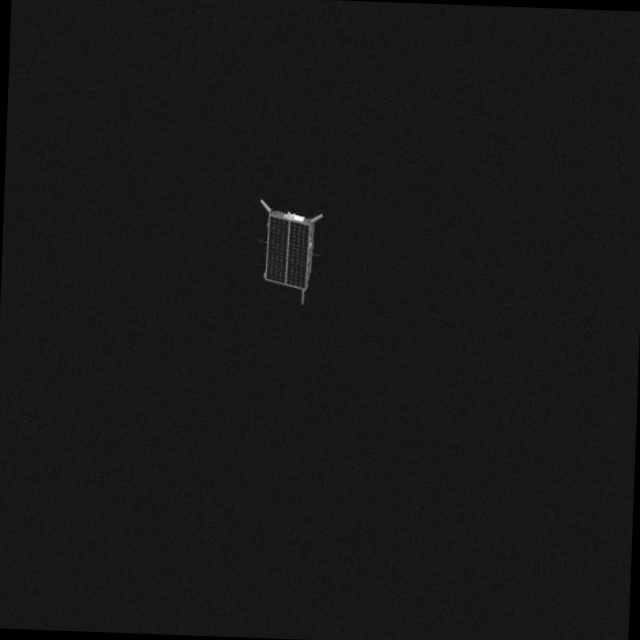satellite: (250, 196, 322, 306)
